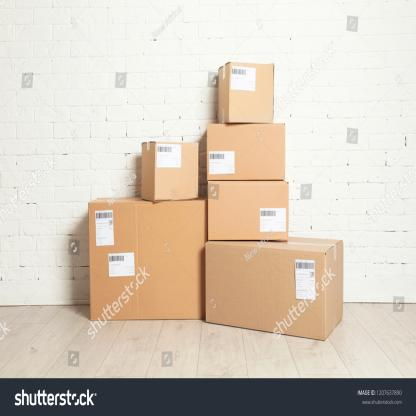box: (91, 202, 206, 322), (204, 242, 324, 341), (209, 181, 288, 242), (208, 121, 287, 181), (228, 62, 274, 123), (153, 142, 197, 200)
